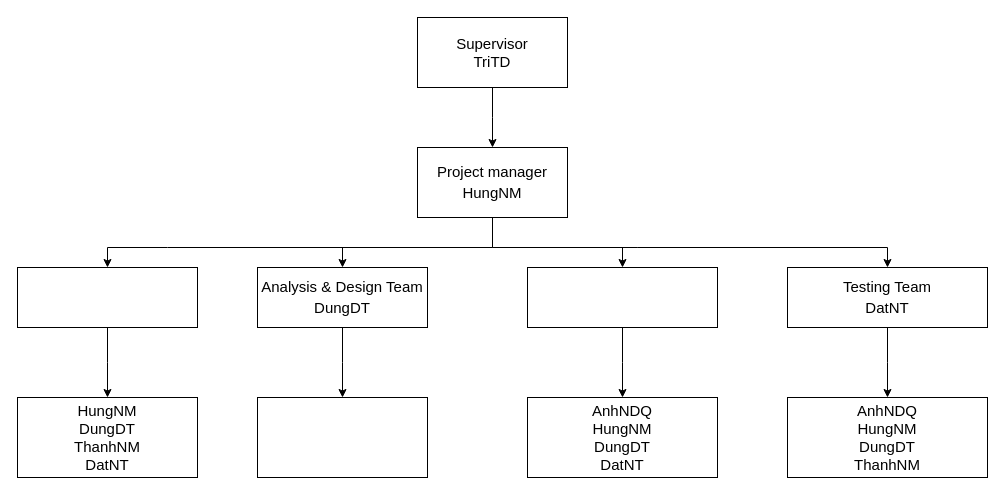
Image size: 1005x495. Some labels were removed from this diagram. Each missing label, with the box of its shape:
AnhNDQ HungNM ThanhNM DatNT: (256, 396, 428, 478)
Coding Team ThanhNM: (526, 266, 718, 328)
Documentation Team AnhNDQ: (16, 266, 198, 328)
